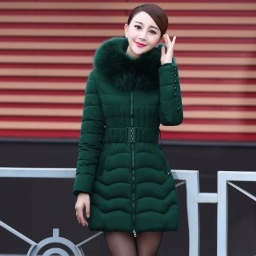face: (122, 2, 168, 54)
